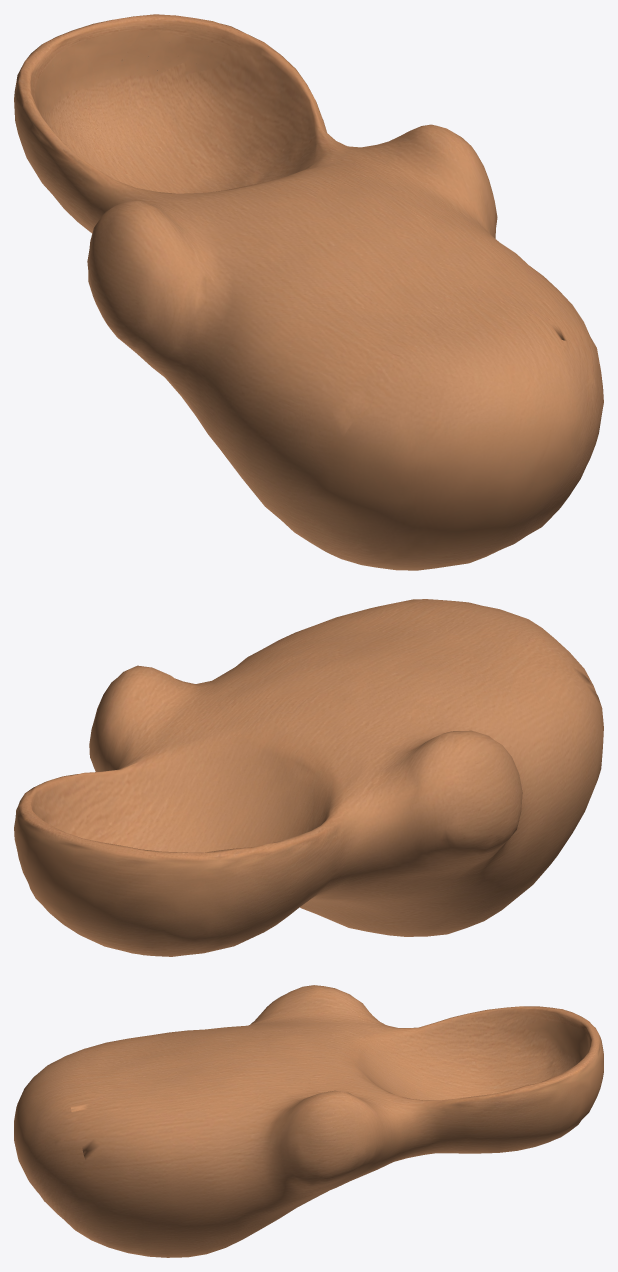
File: spiseredskap_05.glb
3 renders of one model, top to bottom at view 1: azimuth 30°, elevation 25°; view 2: azimuth 150°, elevation 25°; view 3: azimuth 270°, elevation 25°, orthographic. The views are drawn at different scales.
Parts seen in each view (by area): view 1: tripo_node_e9e2c278-1233-404a-a101-932808322ee1; view 2: tripo_node_e9e2c278-1233-404a-a101-932808322ee1; view 3: tripo_node_e9e2c278-1233-404a-a101-932808322ee1.
Part boxes in pixels (x1,y1,x2,y2): tripo_node_e9e2c278-1233-404a-a101-932808322ee1: (14,14,603,570); tripo_node_e9e2c278-1233-404a-a101-932808322ee1: (14,599,603,956); tripo_node_e9e2c278-1233-404a-a101-932808322ee1: (14,985,603,1257).
Size of the model in its own units: 0.5293 by 0.3887 by 0.998.
1 material, 1 textured.
